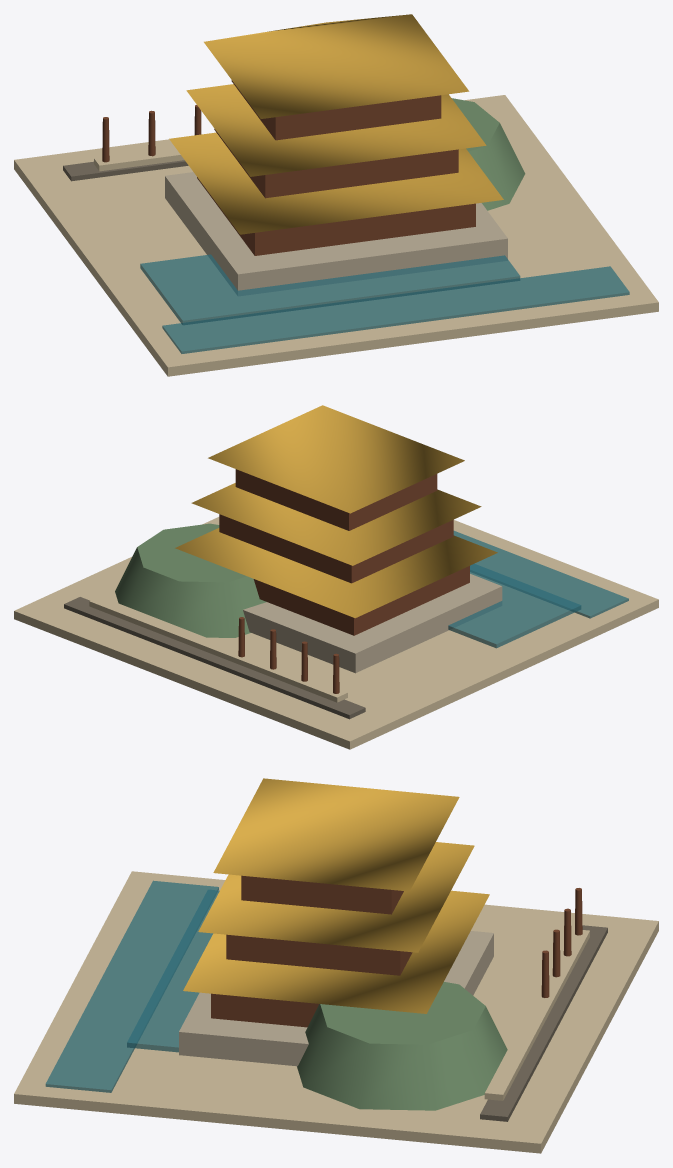
The model's file is model-medium.glb.
3 renders of one model, top to bottom at view 1: azimuth 30°, elevation 25°; view 2: azimuth 150°, elevation 25°; view 3: azimuth 270°, elevation 25°, orthographic. The views are drawn at different scales.
Visible parts, largest first — view 1: context_site_plinth, pavilion_roof_3, pavilion_terrace, context_water_edge, pavilion_roof_1, garden_pond, pavilion_roof_2, pavilion_floor_1, pavilion_floor_2, pavilion_floor_3, garden_rockery_hill, garden_gallery_path (+1 smaller); view 2: context_site_plinth, pavilion_roof_3, garden_rockery_hill, pavilion_roof_1, pavilion_terrace, pavilion_roof_2, garden_pond, context_water_edge, pavilion_floor_2, pavilion_floor_1, front_scale_strip, pavilion_floor_3 (+1 smaller); view 3: context_site_plinth, pavilion_roof_3, garden_rockery_hill, context_water_edge, pavilion_roof_1, pavilion_roof_2, pavilion_terrace, garden_pond, pavilion_floor_2, pavilion_floor_3, front_scale_strip, garden_gallery_path (+1 smaller).
Boxes of the visible parts, box(x1,y1,x2,y2) form: context_site_plinth: box(14, 95, 658, 376); pavilion_roof_3: box(204, 14, 469, 118); pavilion_terrace: box(165, 172, 507, 295); context_water_edge: box(162, 266, 629, 353); pavilion_roof_1: box(169, 132, 503, 234); garden_pond: box(140, 254, 520, 325); pavilion_roof_2: box(186, 84, 486, 176); pavilion_floor_1: box(197, 177, 475, 255); pavilion_floor_2: box(214, 129, 458, 198); pavilion_floor_3: box(231, 80, 441, 140); garden_rockery_hill: box(451, 98, 525, 210); garden_gallery_path: box(94, 147, 184, 171); context_site_plinth: box(14, 517, 658, 749); pavilion_roof_3: box(208, 405, 464, 513); garden_rockery_hill: box(115, 523, 266, 637); pavilion_roof_1: box(175, 528, 497, 618); pavilion_terrace: box(243, 574, 502, 673); pavilion_roof_2: box(191, 483, 481, 565); garden_pond: box(448, 563, 581, 648); context_water_edge: box(453, 530, 628, 618); pavilion_floor_2: box(219, 514, 453, 583); pavilion_floor_1: box(253, 566, 469, 635); front_scale_strip: box(64, 597, 365, 719); pavilion_floor_3: box(235, 469, 437, 530); context_site_plinth: box(14, 871, 658, 1153); pavilion_roof_3: box(213, 778, 459, 891); garden_rockery_hill: box(297, 982, 507, 1110); context_water_edge: box(45, 880, 218, 1092); pavilion_roof_1: box(183, 890, 489, 1013); pavilion_roof_2: box(198, 842, 474, 952); pavilion_terrace: box(179, 931, 493, 1066); garden_pond: box(127, 889, 219, 1052); pavilion_floor_2: box(226, 934, 412, 975); pavilion_floor_3: box(241, 875, 403, 914); front_scale_strip: box(480, 925, 607, 1121); garden_gallery_path: box(484, 929, 589, 1100).
Size of the model in its own units: 9.55 by 3.5 by 9.55.
